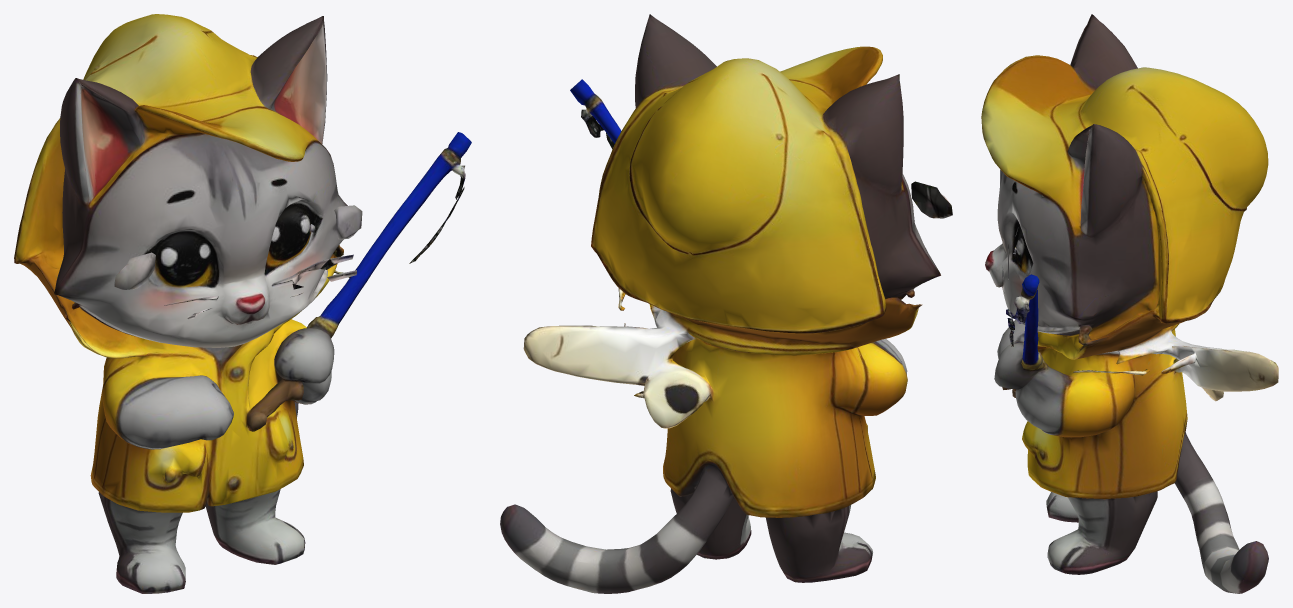
File: olta.glb
3 views of the same model, side by side, from view 1: azimuth 30°, elevation 25°; view 2: azimuth 150°, elevation 25°; view 3: azimuth 270°, elevation 25° (orthographic). The views are drawn at different scales.
Parts seen in each view (by area): view 1: world_1; view 2: world_1; view 3: world_1.
Part boxes in pixels (<box>): world_1: <box>14,14,471,593</box>; world_1: <box>500,14,952,593</box>; world_1: <box>981,14,1278,593</box>.
Bounding box in the file's own units: 0.7947 × 1 × 0.5742.
Materials: 1 (1 with a texture image).
